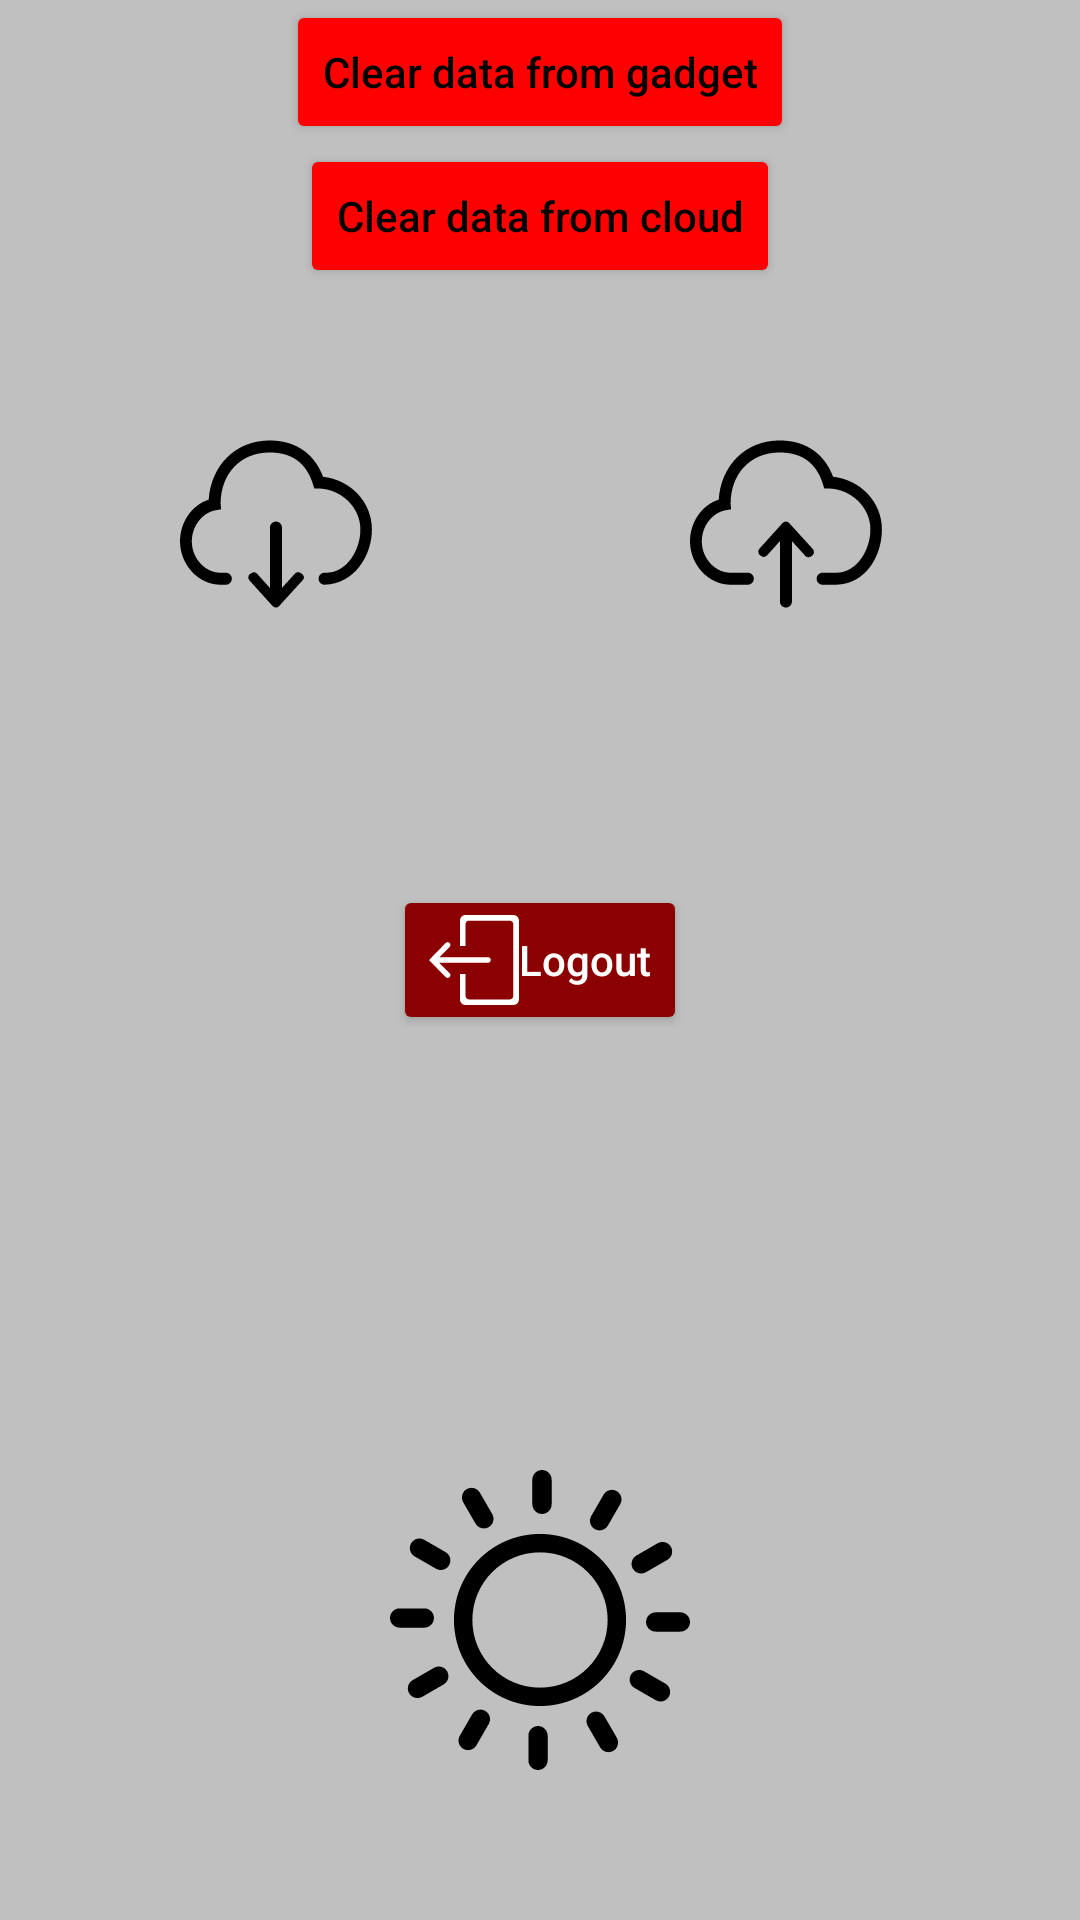

Screen size 1080×1920. Icon name, then its box in pixels as (x1, y1, x2, y2):
day theme: (390, 1470, 690, 1770)
Download data from DB: (180, 440, 372, 608)
upload data to cloud: (690, 440, 882, 608)
